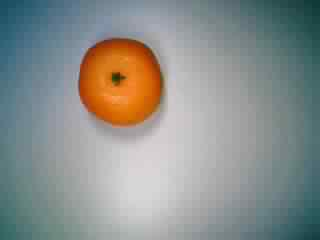orange: (72, 30, 167, 132)
